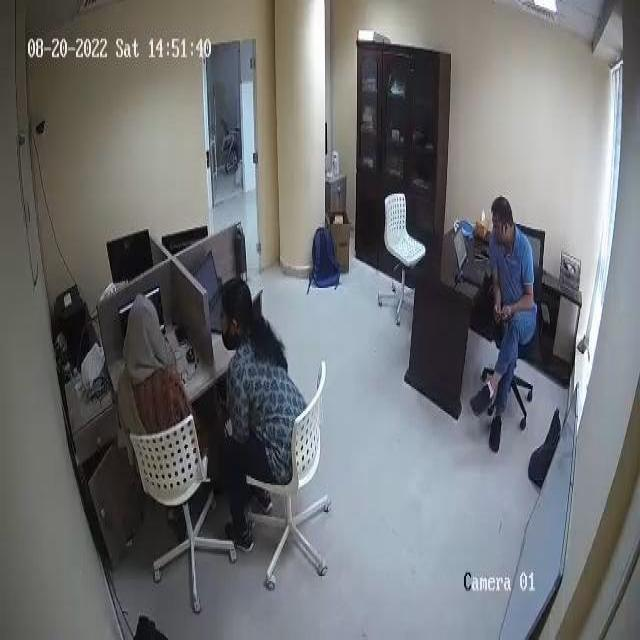bare_hand: (490, 285, 518, 332)
